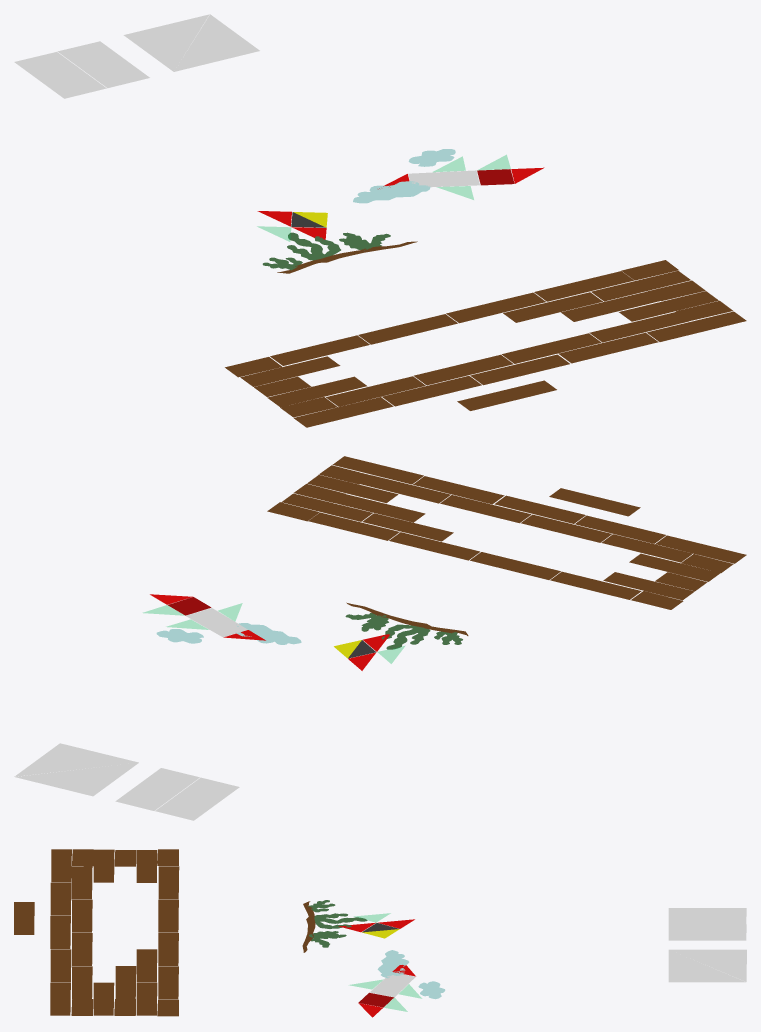
3 renders of one model, top to bottom at view 1: azimuth 30°, elevation 25°; view 2: azimuth 150°, elevation 25°; view 3: azimuth 270°, elevation 25°, orthographic. The views are drawn at different scales.
Parts seen in each view (by area): view 1: polySurface3, polySurface4, polySurface2, polySurface1, polySurface28, polySurface27, polySurface33, polySurface34, polySurface17, polySurface18, polySurface19, polySurface20 (+15 smaller); view 2: polySurface4, polySurface3, polySurface1, polySurface2, polySurface20, polySurface23, polySurface22, polySurface19, polySurface21, polySurface31, polySurface35, polySurface24 (+15 smaller); view 3: polySurface4, polySurface3, polySurface2, polySurface1, polySurface24, polySurface30, polySurface34, polySurface32, polySurface21, polySurface22, polySurface26, polySurface17 (+25 smaller).
Part boxes in pixels (x1,y1,x2,y2): polySurface3: [123, 14, 209, 71]; polySurface4: [174, 14, 259, 71]; polySurface2: [57, 41, 149, 88]; polySurface1: [14, 52, 106, 98]; polySurface28: [501, 333, 601, 363]; polySurface27: [589, 312, 689, 342]; polySurface33: [470, 354, 569, 385]; polySurface34: [558, 332, 658, 363]; polySurface17: [270, 335, 369, 365]; polySurface18: [358, 314, 457, 344]; polySurface19: [446, 292, 545, 323]; polySurface20: [534, 271, 633, 301]; polySurface4: [14, 743, 138, 776]; polySurface3: [15, 762, 138, 796]; polySurface1: [155, 777, 239, 820]; polySurface2: [115, 768, 199, 810]; polySurface20: [308, 512, 399, 540]; polySurface23: [603, 572, 694, 600]; polySurface22: [281, 493, 372, 521]; polySurface19: [389, 532, 479, 560]; polySurface21: [362, 513, 453, 541]; polySurface31: [655, 535, 746, 563]; polySurface35: [332, 456, 423, 484]; polySurface24: [629, 553, 720, 581]; polySurface4: [668, 950, 745, 982]; polySurface3: [669, 949, 746, 981]; polySurface2: [668, 924, 746, 940]; polySurface1: [668, 908, 746, 924]; polySurface24: [93, 849, 114, 882]; polySurface30: [71, 866, 92, 899]; polySurface34: [50, 949, 71, 982]; polySurface32: [50, 882, 71, 915]; polySurface21: [136, 949, 157, 982]; polySurface22: [136, 982, 157, 1015]; polySurface26: [115, 966, 136, 999]; polySurface17: [158, 866, 179, 899].
Bounding box in the file's own units: 6.6 × 0 × 12.13.
